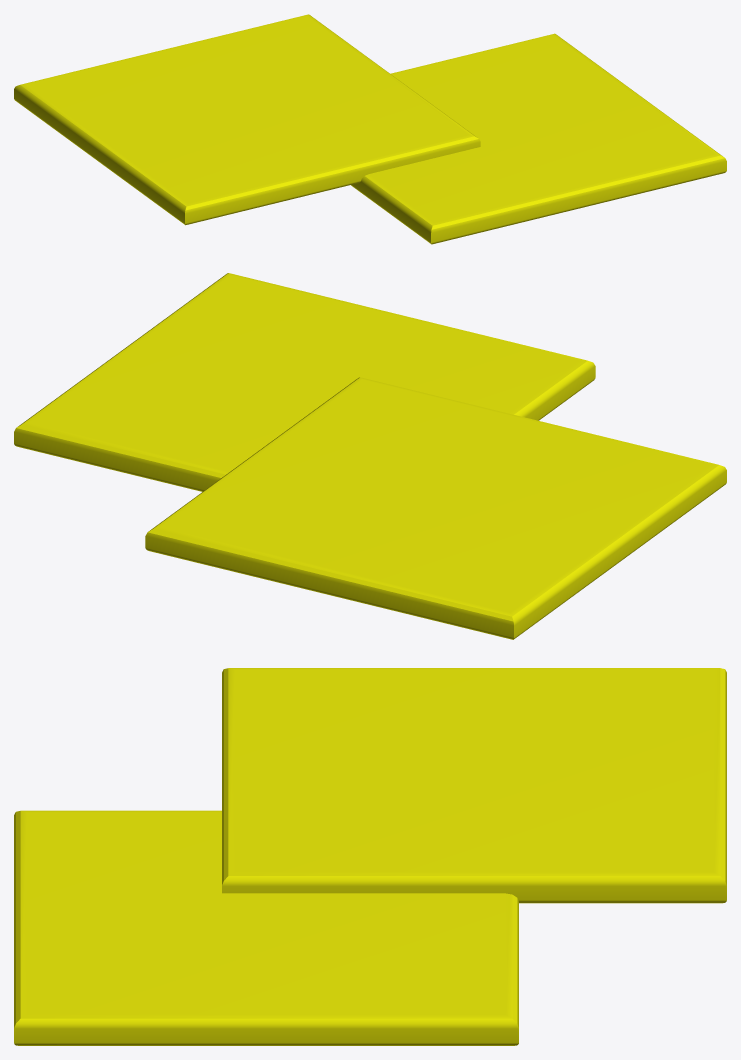
Rendered from queso.fbx.
The picture shows the model from 3 angles, top to bottom: view 1: azimuth 30°, elevation 25°; view 2: azimuth 150°, elevation 25°; view 3: azimuth 270°, elevation 25°; orthographic projection. The views are drawn at different scales.
Parts seen in each view (by area): view 1: pCube27; view 2: pCube27; view 3: pCube27.
Part boxes in pixels (bbox=[...]): pCube27: bbox=[14, 14, 726, 244]; pCube27: bbox=[14, 273, 726, 639]; pCube27: bbox=[14, 668, 726, 1045].
Bounding box in the file's own units: 0.6874 × 0.0415 × 0.6086.
